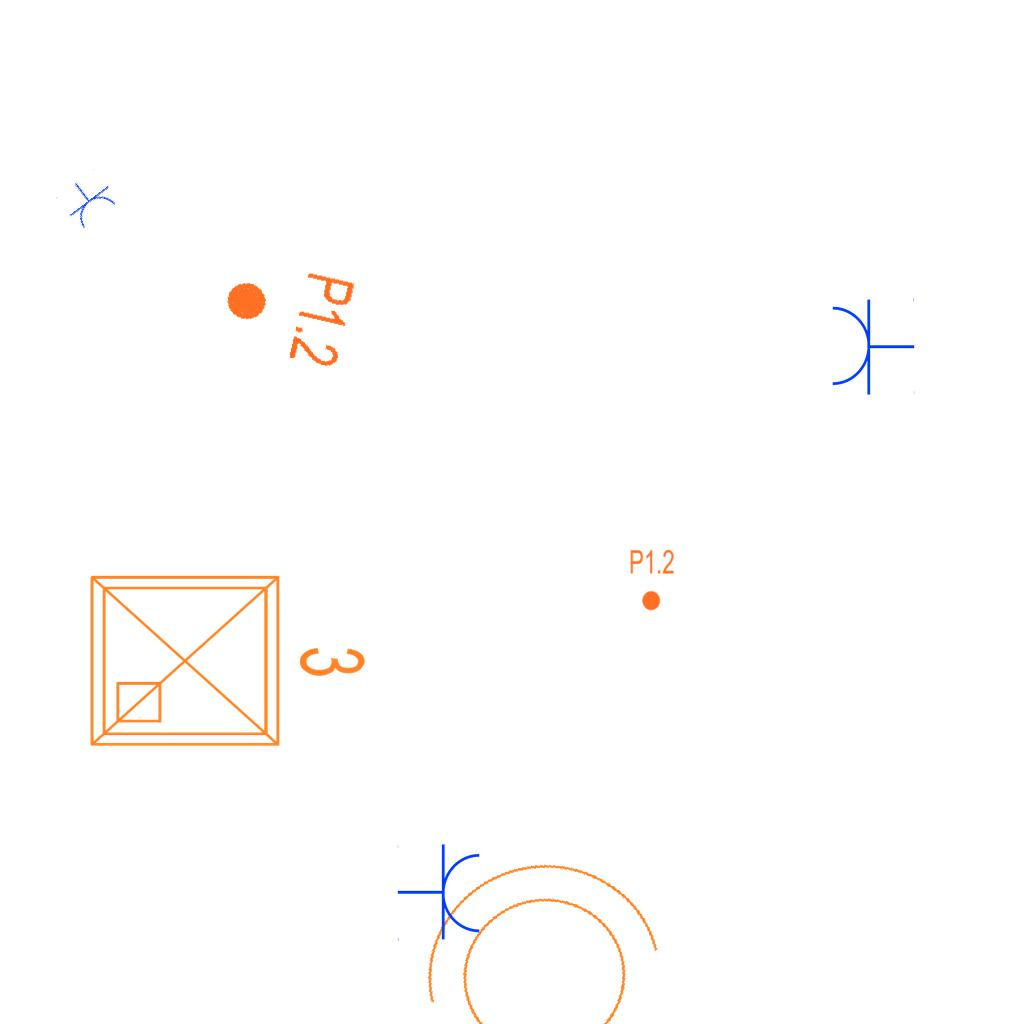Downlight_LED_Einbauleuchten_Flur: (213, 252, 360, 372), (629, 548, 675, 612)
Einbaudownlights_LED_Konferenzraeume: (76, 553, 376, 761)
Scheinwerfer_fuer_Alarmbeleuchtung: (382, 829, 690, 1024)
Schukosteckdose_einfach: (828, 296, 915, 396), (397, 843, 484, 943), (55, 168, 121, 233)
